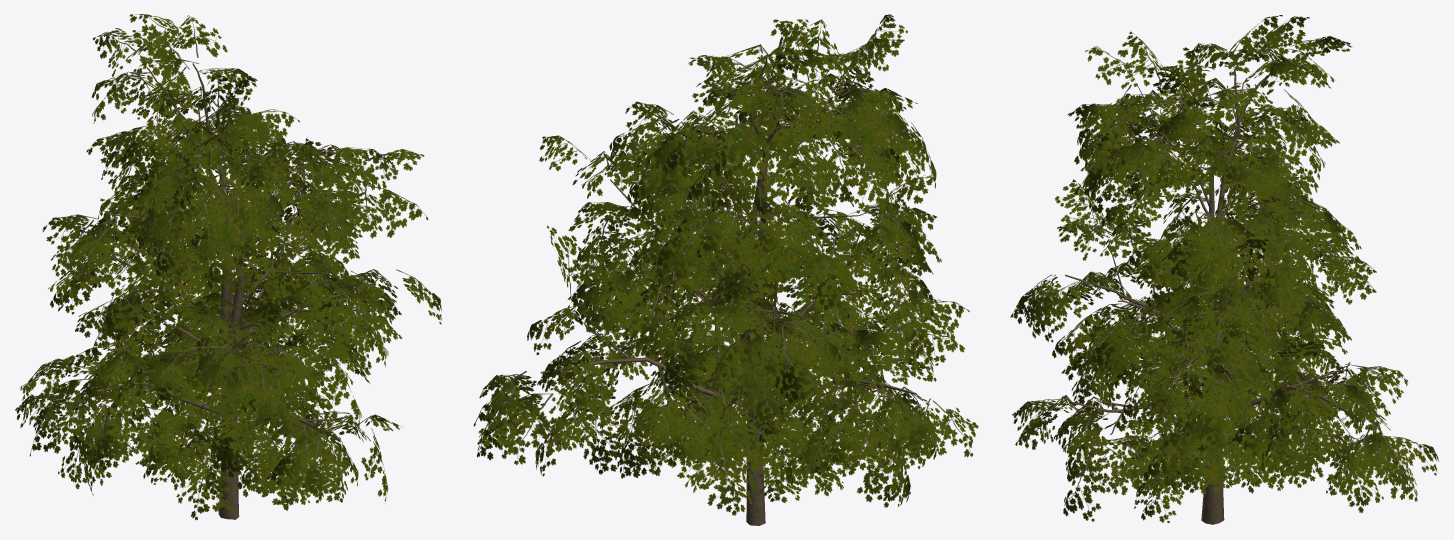
File: trees_maple.glb
3 views of the same model, side by side, from view 1: azimuth 30°, elevation 25°; view 2: azimuth 150°, elevation 25°; view 3: azimuth 270°, elevation 25° (orthographic). The views are drawn at different scales.
Parts seen in each view (by area): view 1: Acer_medium_1_LOD2, Acer_medium_2_LOD2, Acer_small_2_LOD2, Acer_small_1_LOD2; view 2: Acer_medium_1_LOD2, Acer_medium_2_LOD2, Acer_small_2_LOD2, Acer_small_1_LOD2; view 3: Acer_medium_1_LOD2, Acer_medium_2_LOD2, Acer_small_1_LOD2, Acer_small_2_LOD2.
Boxes of the visible parts, left/top/right/bottom form: Acer_medium_1_LOD2: left=15, top=28, right=441, bottom=519; Acer_medium_2_LOD2: left=48, top=14, right=428, bottom=519; Acer_small_2_LOD2: left=128, top=270, right=329, bottom=520; Acer_small_1_LOD2: left=150, top=261, right=340, bottom=510; Acer_medium_1_LOD2: left=473, top=38, right=978, bottom=525; Acer_medium_2_LOD2: left=539, top=14, right=951, bottom=499; Acer_small_2_LOD2: left=652, top=282, right=871, bottom=502; Acer_small_1_LOD2: left=649, top=253, right=842, bottom=492; Acer_medium_1_LOD2: left=1012, top=31, right=1438, bottom=524; Acer_medium_2_LOD2: left=1010, top=15, right=1376, bottom=523; Acer_small_1_LOD2: left=1100, top=277, right=1320, bottom=523; Acer_small_2_LOD2: left=1107, top=289, right=1314, bottom=495.
Size of the model in its own units: 11.48 by 13.21 by 10.66.
Materials: 2 (2 with a texture image).
